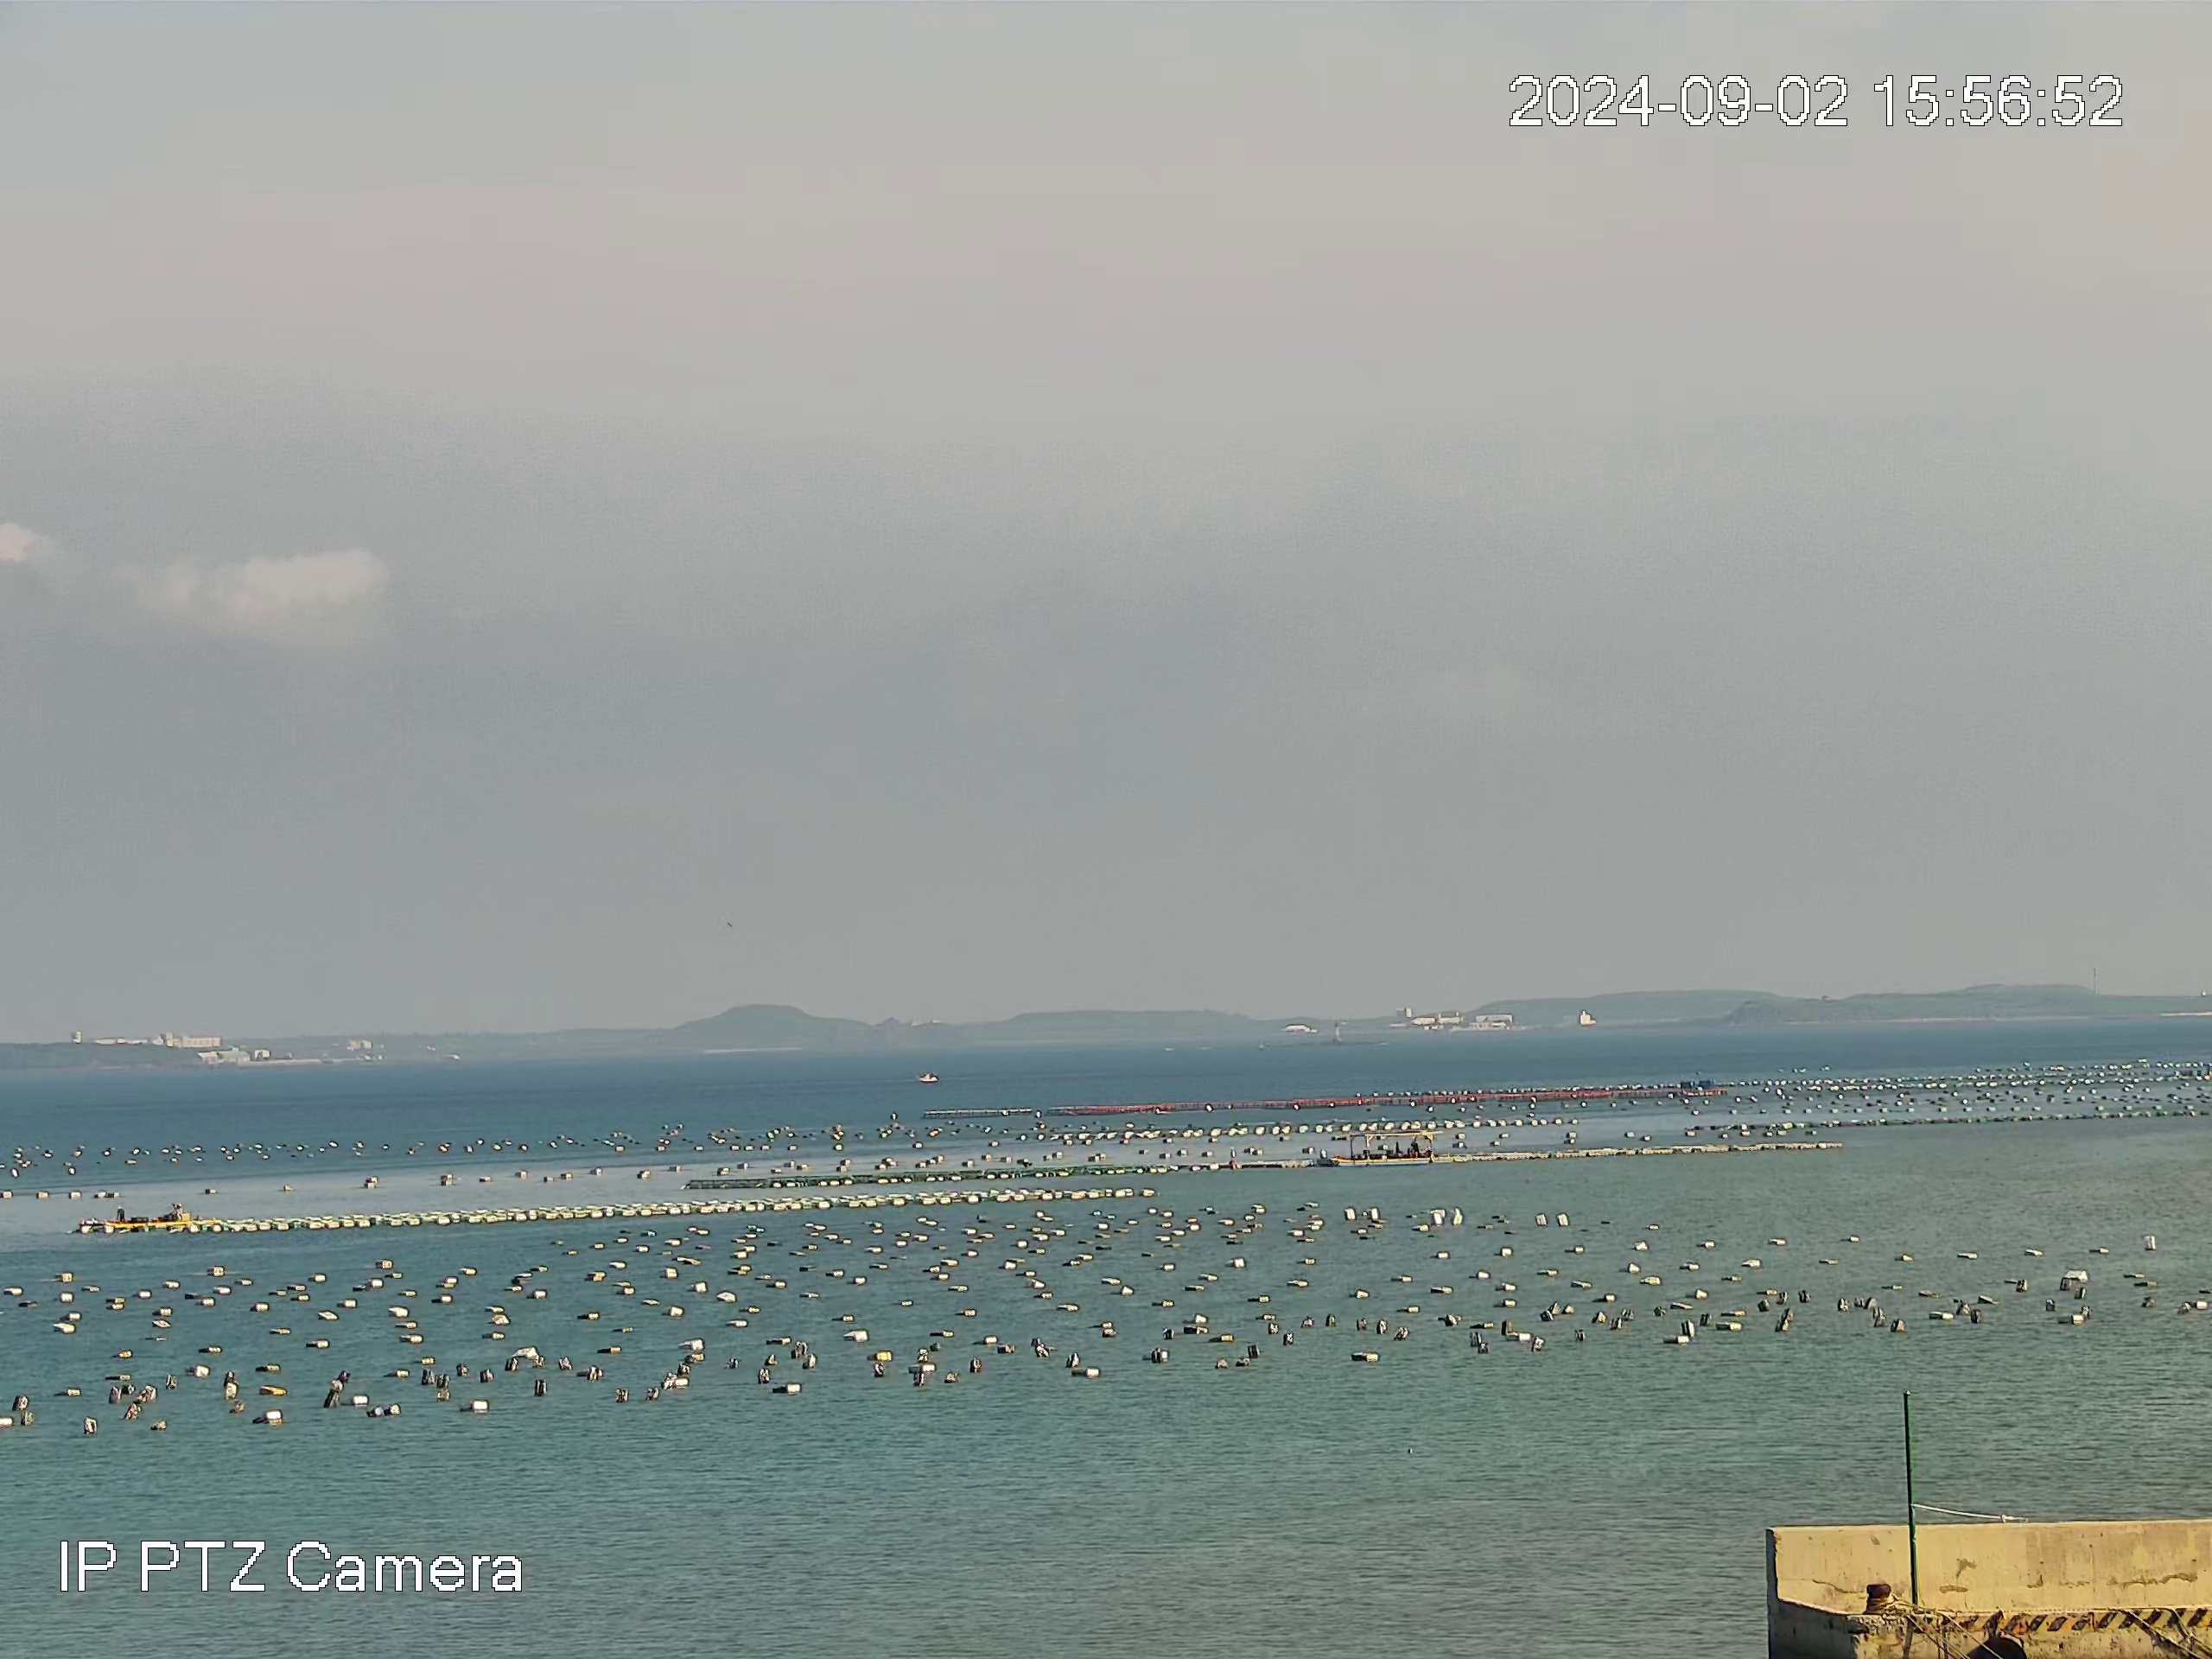boat: (1329, 1129, 1456, 1168), (101, 1201, 223, 1225), (914, 1070, 941, 1084)
